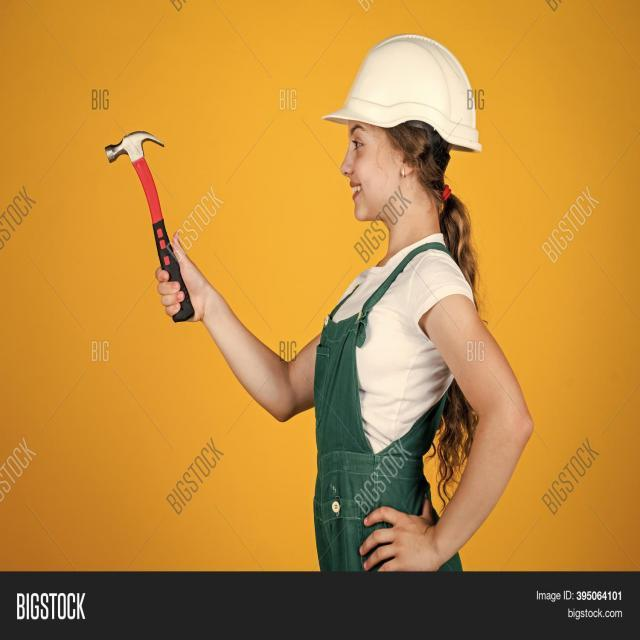hammer: (93, 111, 199, 332)
